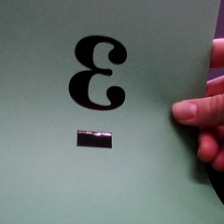green3: (62, 31, 132, 152)
